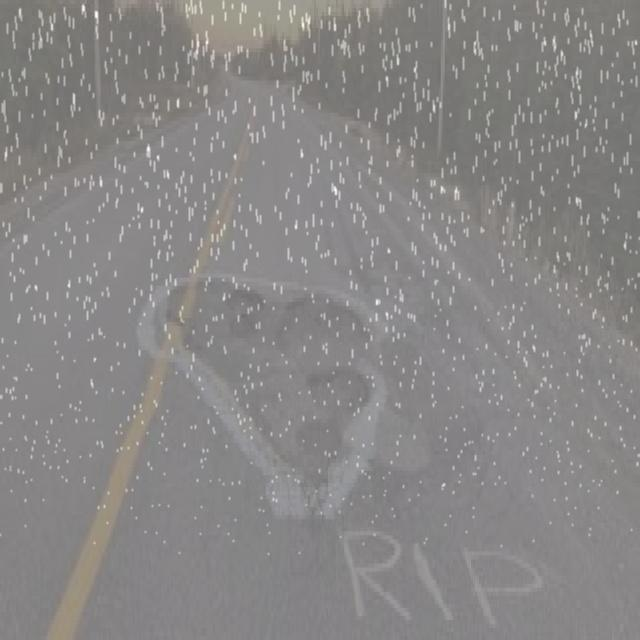Pothole: (154, 252, 379, 476)
